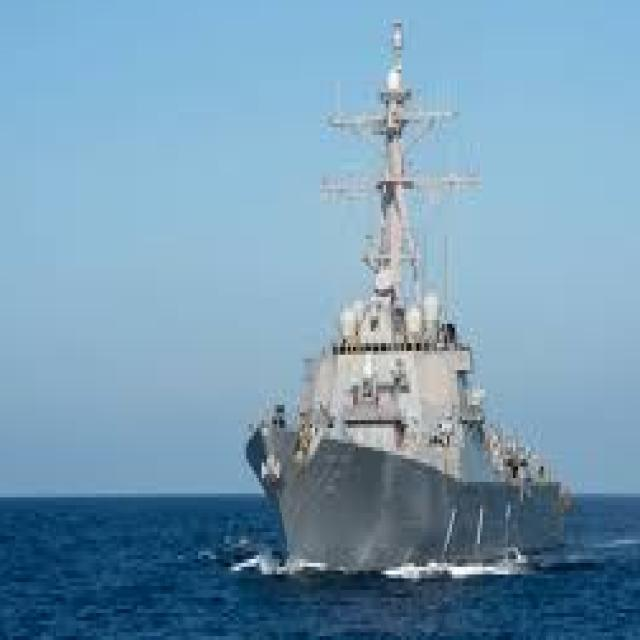navalvessels: (247, 21, 580, 565)
